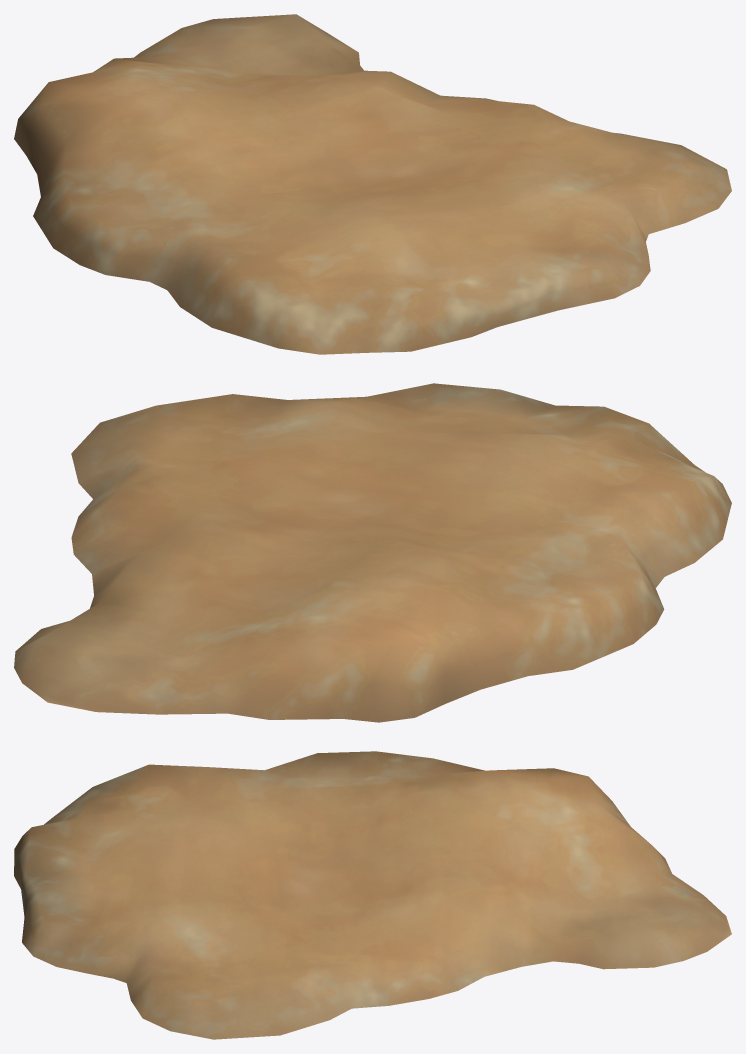
The model's file is SM_wax_puddle_01.fbx.
3 views of the same model, one above another, from view 1: azimuth 30°, elevation 25°; view 2: azimuth 150°, elevation 25°; view 3: azimuth 270°, elevation 25° (orthographic). The views are drawn at different scales.
Parts seen in each view (by area): view 1: SM_wax_puddle_01_LOD0; view 2: SM_wax_puddle_01_LOD0; view 3: SM_wax_puddle_01_LOD0.
Boxes of the visible parts, <box> form: SM_wax_puddle_01_LOD0: <box>14,14,731,354</box>; SM_wax_puddle_01_LOD0: <box>14,383,731,722</box>; SM_wax_puddle_01_LOD0: <box>14,751,731,1039</box>.
Size of the model in its own units: 36.19 by 41.66 by 3.96.
Materials: 1 (1 with a texture image).
